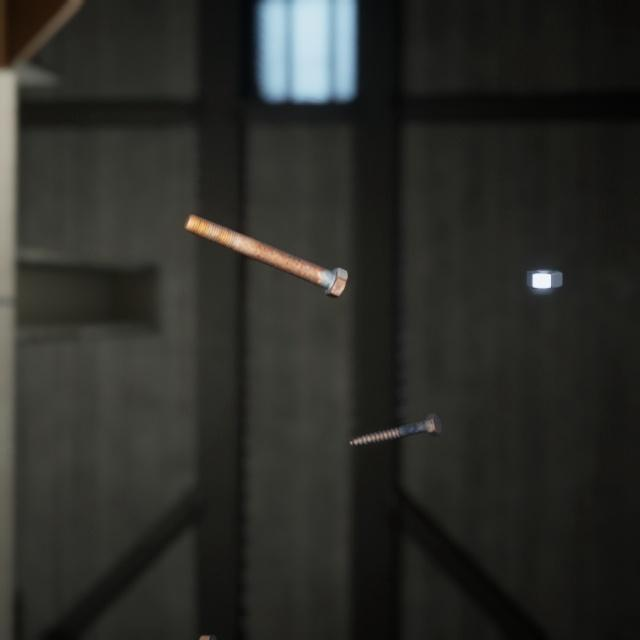bolt: (179, 192, 352, 285), (193, 606, 332, 640), (345, 389, 446, 430)
nut: (522, 248, 566, 276)
